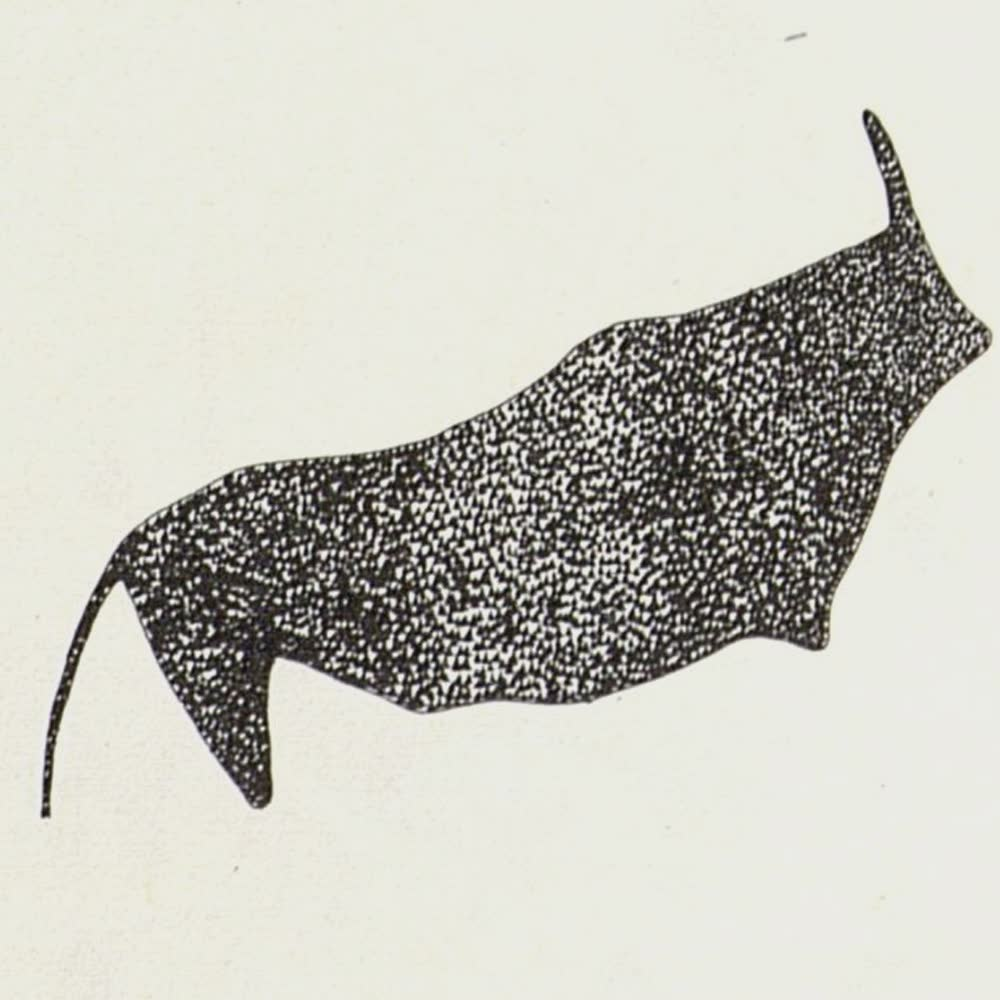animal: (33, 105, 999, 819)
